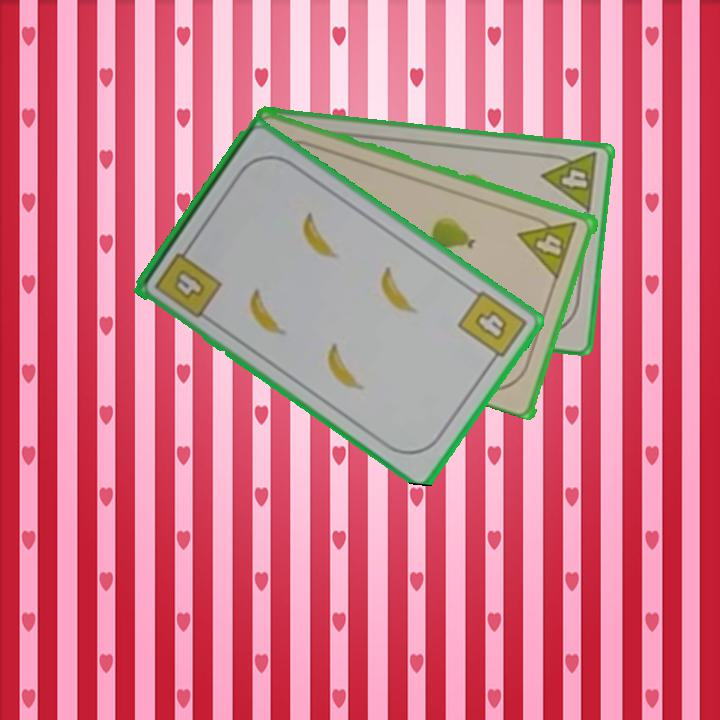4b: (454, 287, 530, 368), (151, 240, 225, 321)
4p: (516, 209, 580, 281), (538, 149, 601, 214)
